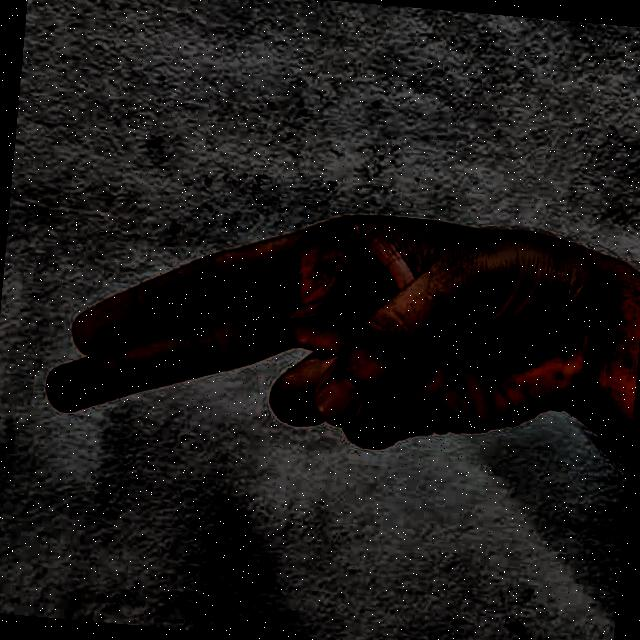Ha: (11, 150, 612, 618)
